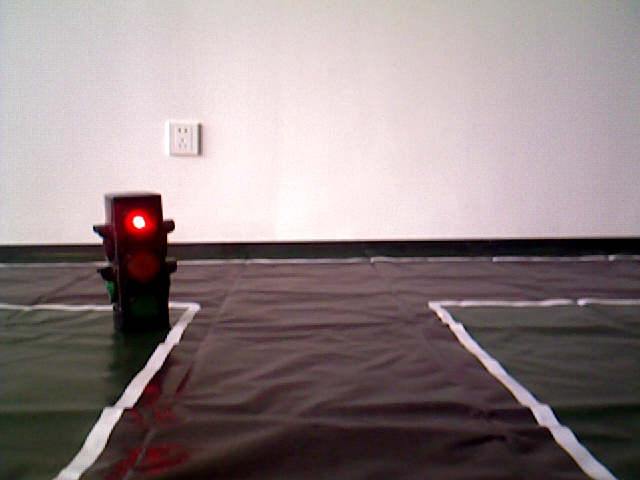red: (101, 201, 174, 327)
